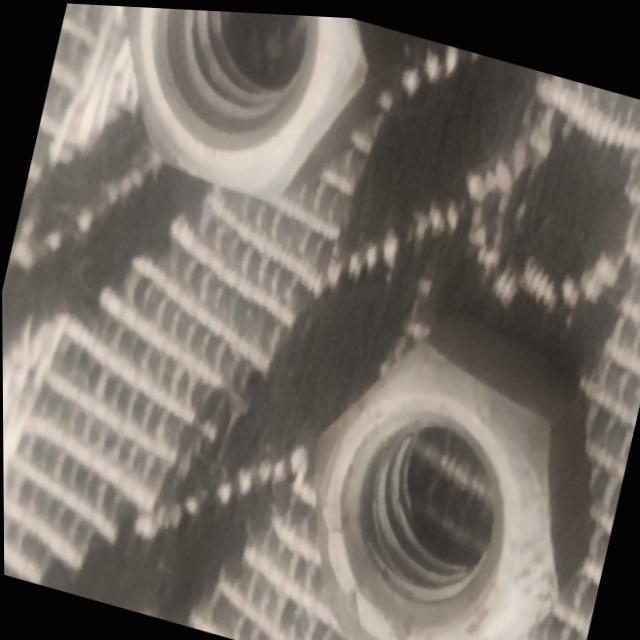disinfected nut: (312, 309, 589, 640), (125, 5, 366, 196)
